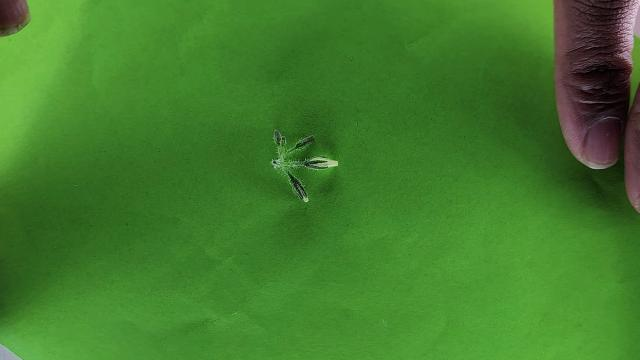Flower Bud: (285, 168, 308, 203), (299, 156, 338, 169), (292, 135, 315, 151)
